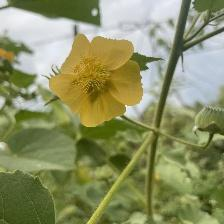indian mallow: (50, 34, 148, 130)
